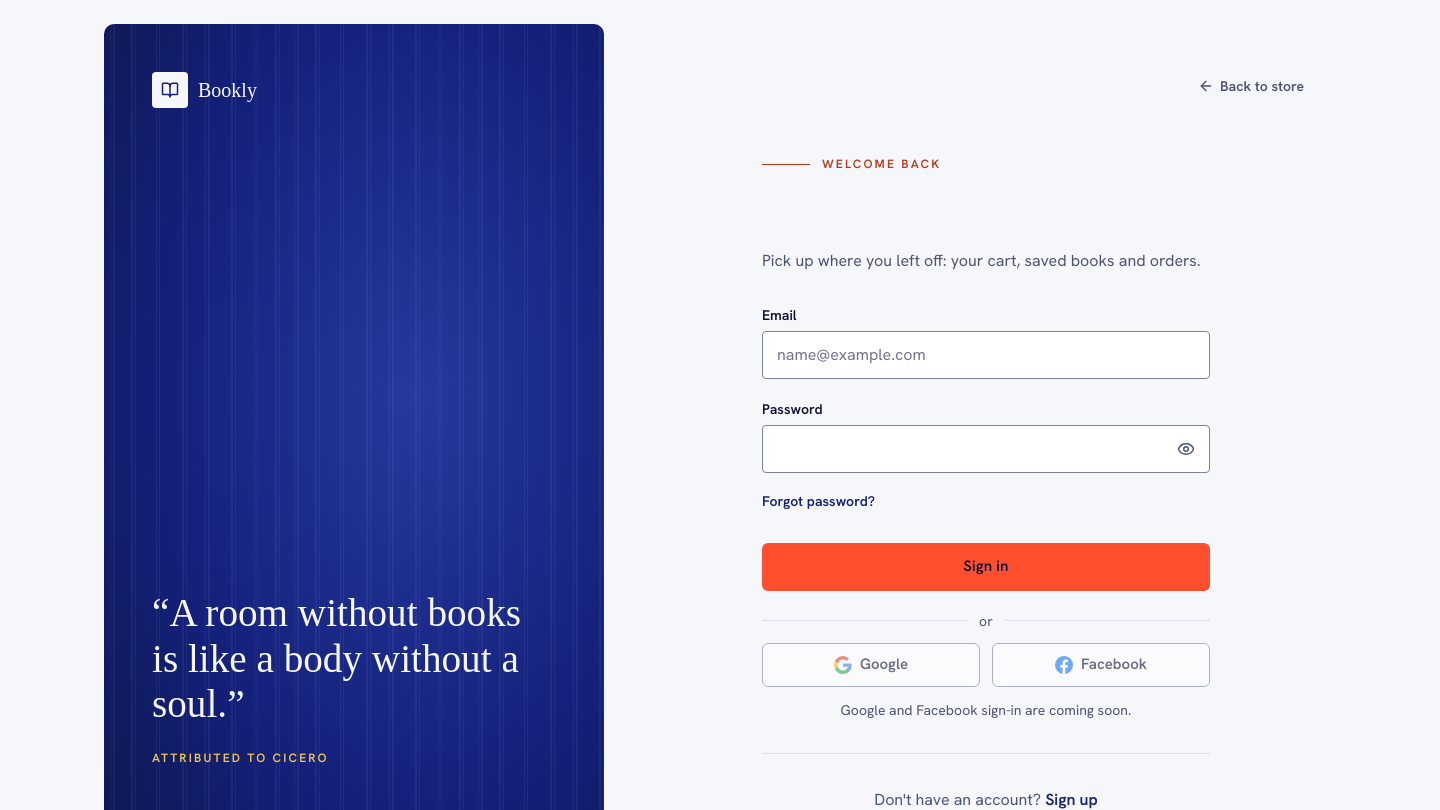
Test: LoginPage › shows the API's message and clears the password on a wrong password
This screenshot has width=1440, height=810.
Type "dara@example.com" into the field labelled "Email" at (986, 355), box [762,331,1210,379]
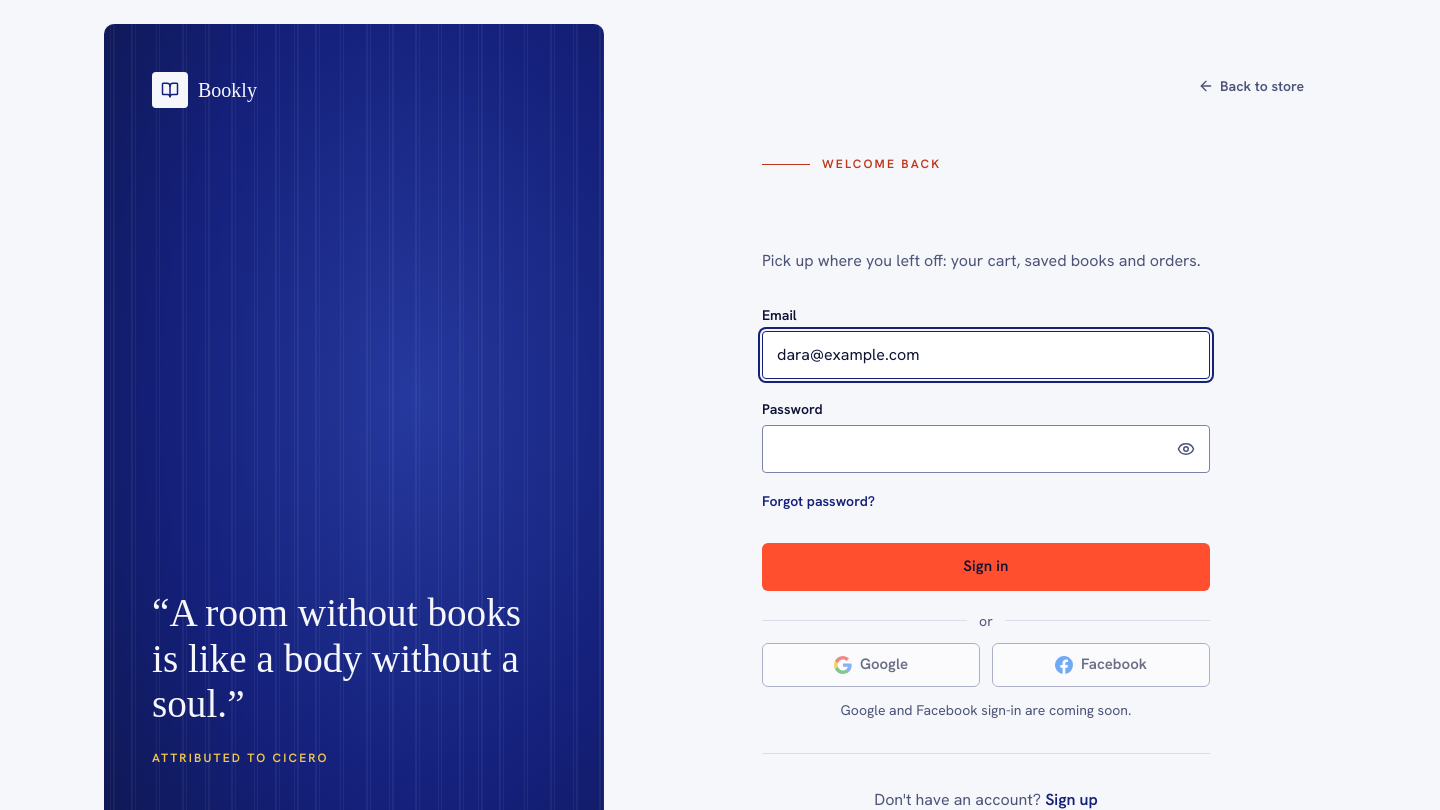
Type "wrongpass1" into the password field labelled "Password" at (986, 449), box [762,425,1210,473]
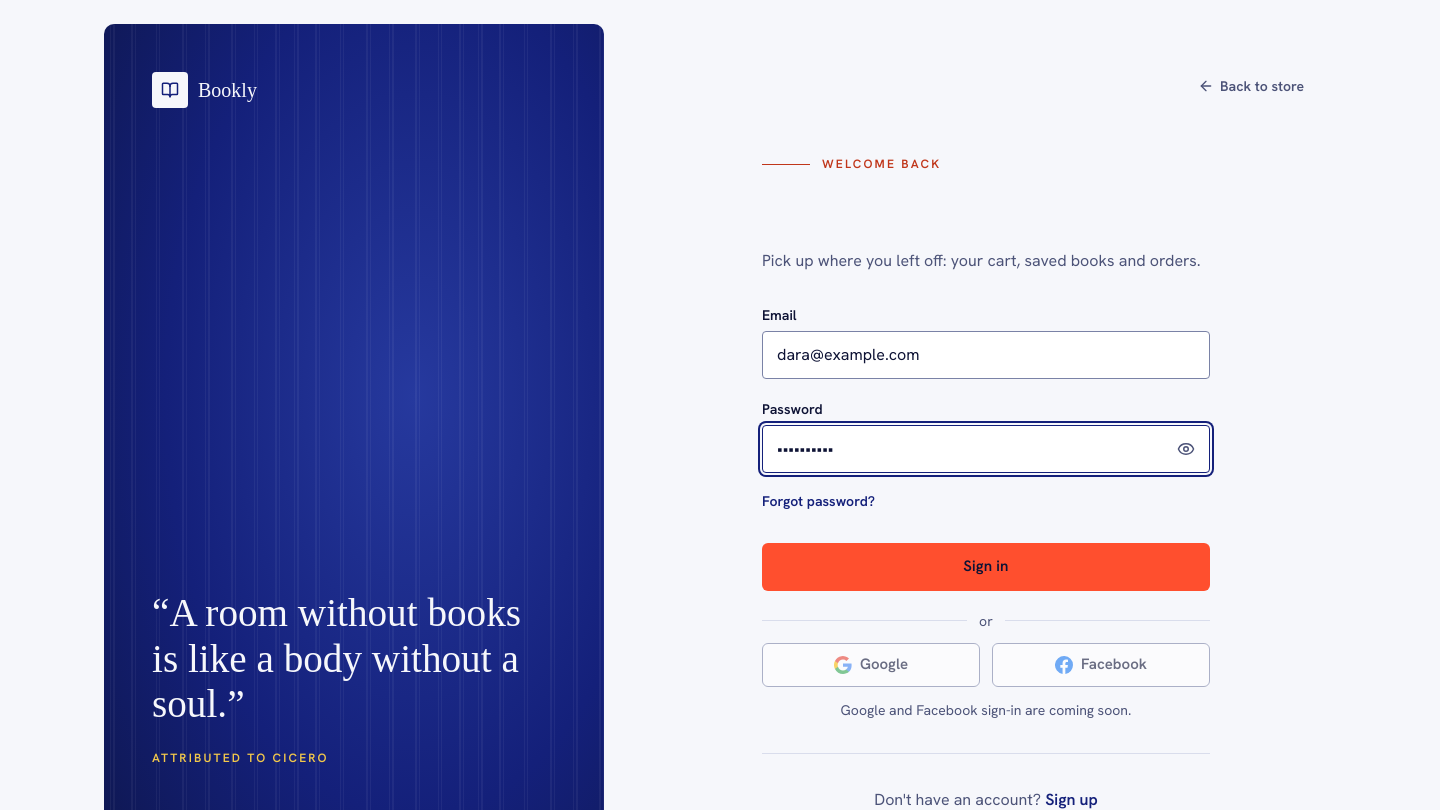
Click the button "Sign in" at (986, 567), box [762,543,1210,591]
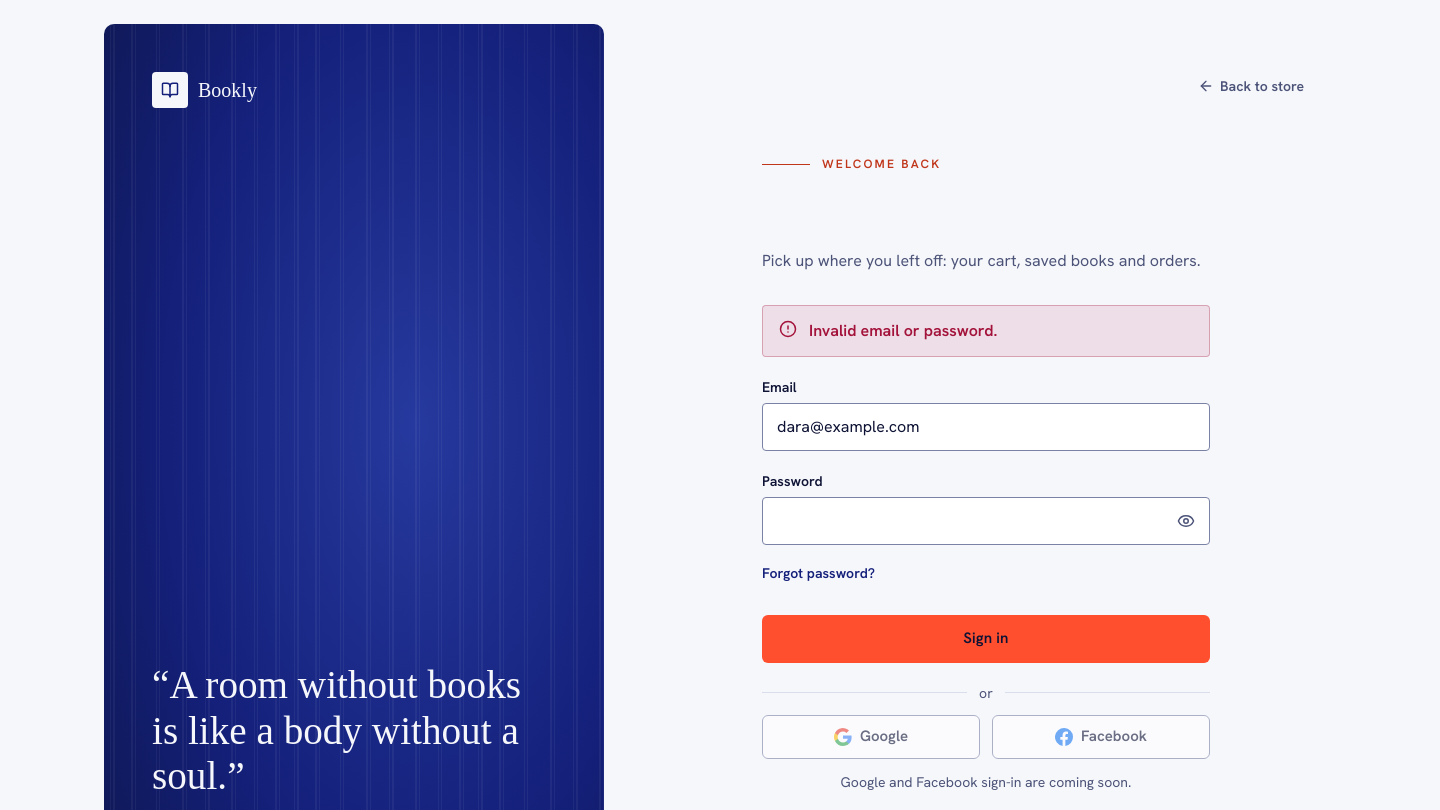
Result: the message reads "Invalid email or password." at [809,320,997,341]
Result: the password field labelled "Password" is empty at [762,497,1210,545]
